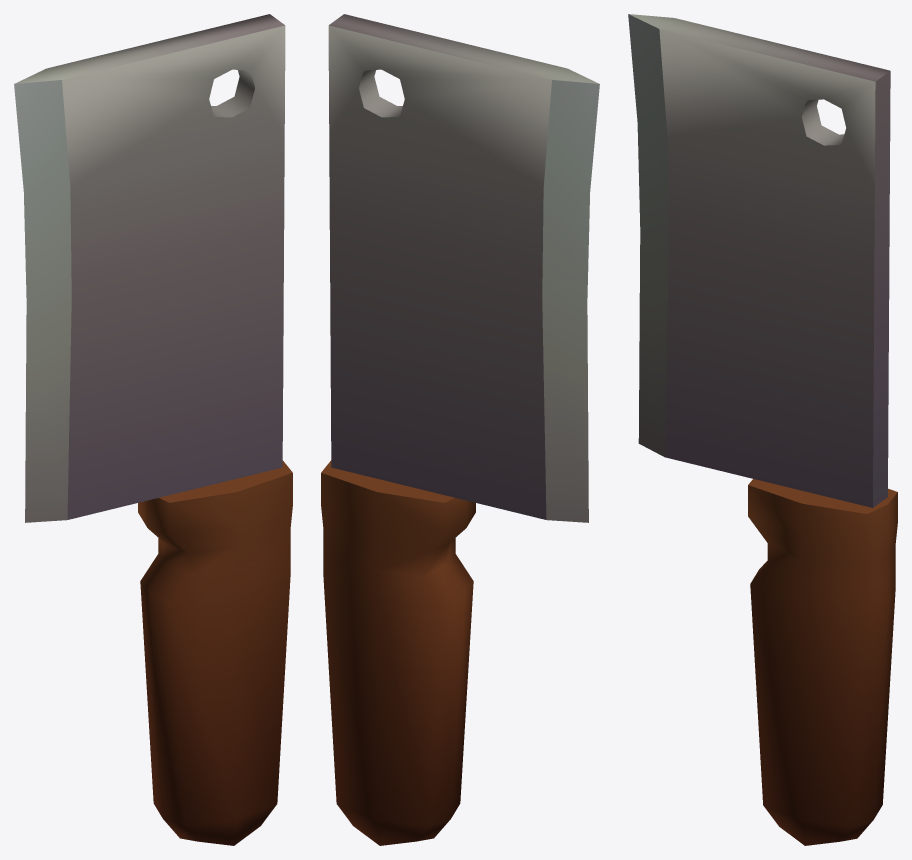
File: Kitchen_Knife_03.glb
3 views of the same model, side by side, from view 1: azimuth 30°, elevation 25°; view 2: azimuth 150°, elevation 25°; view 3: azimuth 330°, elevation 25° (orthographic). The views are drawn at different scales.
Parts seen in each view (by area): view 1: Kitchen_Knife_03; view 2: Kitchen_Knife_03; view 3: Kitchen_Knife_03.
Part boxes in pixels (x1=…): Kitchen_Knife_03: x1=14, y1=14, x2=292, y2=845; Kitchen_Knife_03: x1=321, y1=14, x2=599, y2=845; Kitchen_Knife_03: x1=628, y1=14, x2=897, y2=845.
Size of the model in its own units: 0.2347 by 0.6684 by 0.0647.
Materials: 1 (1 with a texture image).
